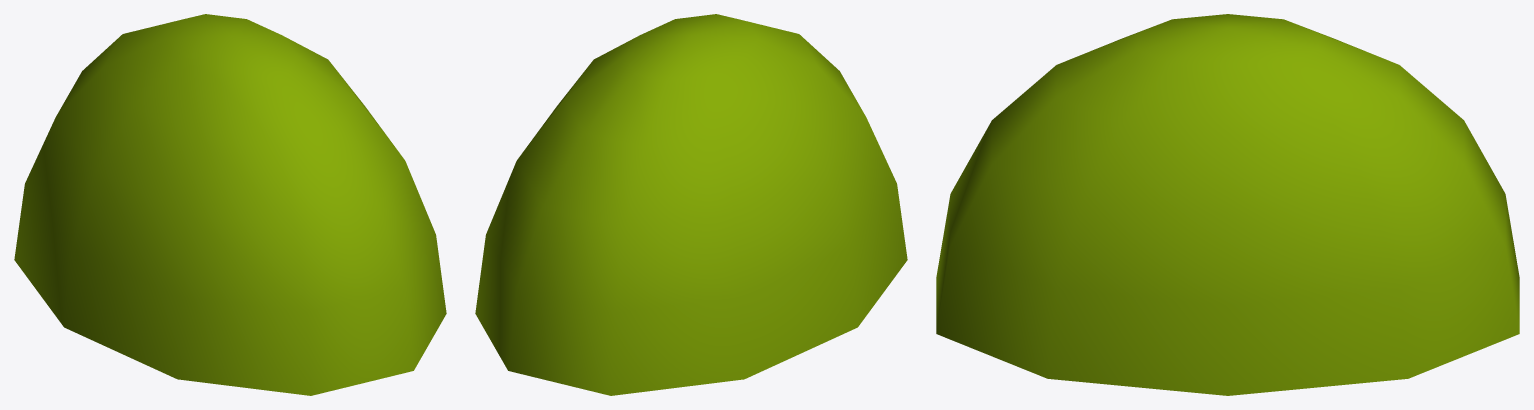
The model's file is mountain.fbx.
3 views of the same model, side by side, from view 1: azimuth 30°, elevation 25°; view 2: azimuth 150°, elevation 25°; view 3: azimuth 270°, elevation 25° (orthographic). The views are drawn at different scales.
Visible parts, largest first — view 1: mountain; view 2: mountain; view 3: mountain.
Part boxes in pixels (box(x1,y1,x2,y2)): mountain: box(14, 14, 446, 395); mountain: box(475, 14, 907, 395); mountain: box(936, 14, 1519, 395).
Bounding box in the file's own units: 26.83 × 19.37 × 36.85.
